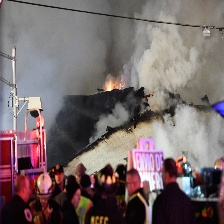fire: (99, 81, 126, 90)
smoke: (1, 1, 224, 85)
